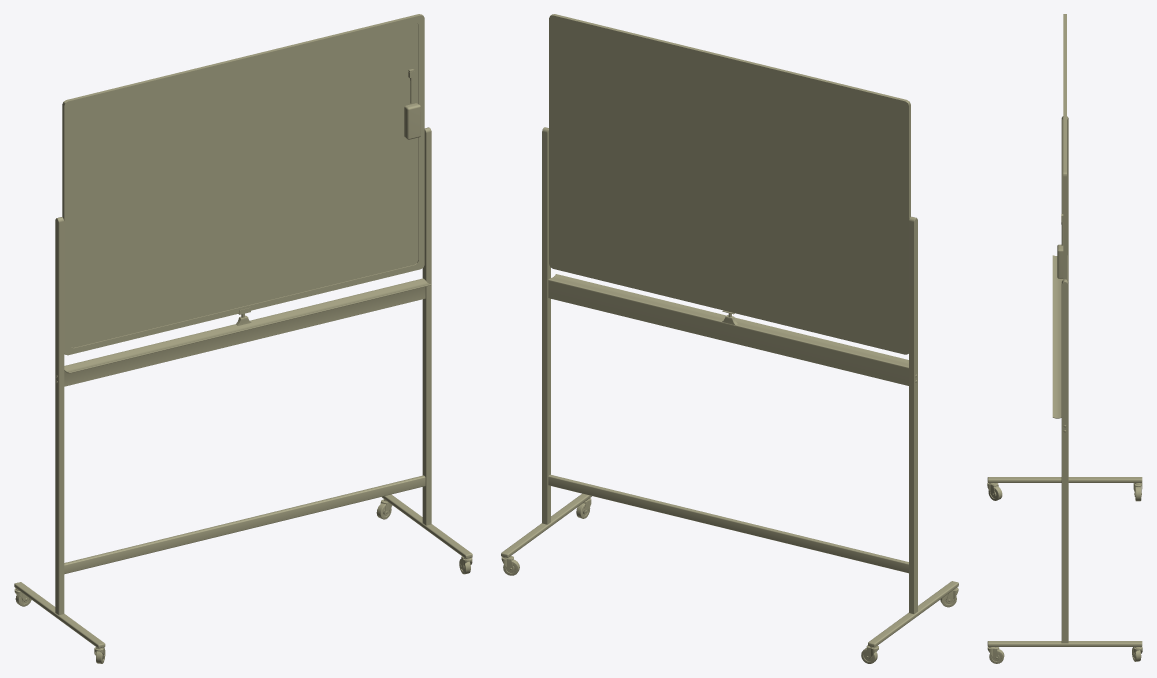
File: Whiteboard.fbx
The picture shows the model from 3 angles, left to right: view 1: azimuth 30°, elevation 25°; view 2: azimuth 150°, elevation 25°; view 3: azimuth 270°, elevation 25°; orthographic projection. The views are drawn at different scales.
Parts seen in each view (by area): view 1: Furniture_Whiteboard_01:Furniture_Whiteboard_01; view 2: Furniture_Whiteboard_01:Furniture_Whiteboard_01; view 3: Furniture_Whiteboard_01:Furniture_Whiteboard_01.
Boxes of the visible parts, box(x1,y1,x2,y2) form: Furniture_Whiteboard_01:Furniture_Whiteboard_01: box(14, 14, 472, 663); Furniture_Whiteboard_01:Furniture_Whiteboard_01: box(501, 14, 958, 663); Furniture_Whiteboard_01:Furniture_Whiteboard_01: box(987, 14, 1142, 663).
Bounding box in the file's own units: 8.94 × 12.09 × 3.48.
